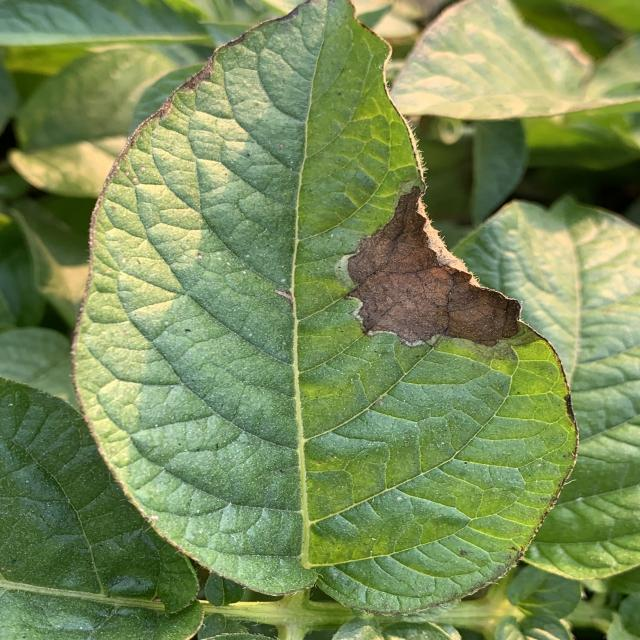lateblight: (340, 188, 520, 345)
